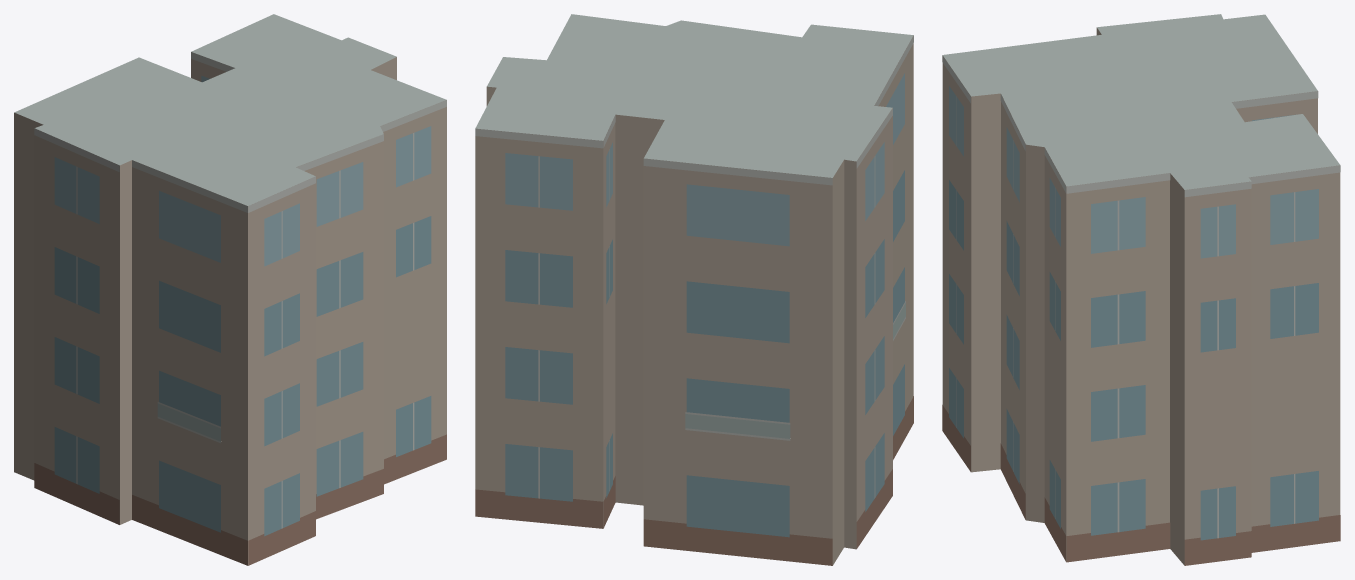
File: survey-upis-32849059.glb
3 renders of one model, left to right at view 1: azimuth 30°, elevation 25°; view 2: azimuth 150°, elevation 25°; view 3: azimuth 270°, elevation 25°, orthographic. The views are drawn at different scales.
Visible parts, largest first — view 1: survey-upis-32849059.tmp; view 2: survey-upis-32849059.tmp; view 3: survey-upis-32849059.tmp.
Part boxes in pixels (x1,y1,x2,y2): survey-upis-32849059.tmp: (14, 14, 446, 565); survey-upis-32849059.tmp: (475, 14, 913, 565); survey-upis-32849059.tmp: (942, 14, 1340, 565).
Bounding box in the file's own units: 12.67 × 12.6 × 12.1.
